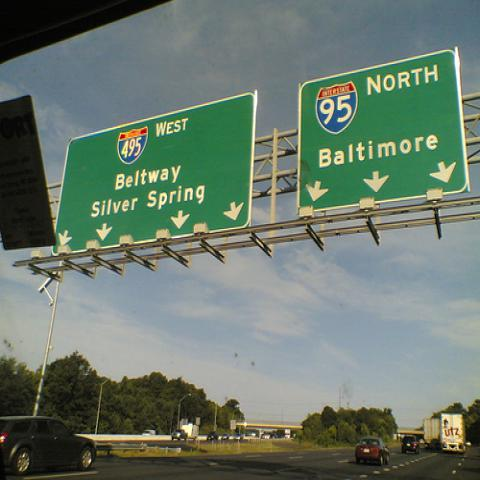car: (0, 416, 97, 477), (355, 438, 390, 466), (402, 436, 420, 454), (206, 431, 218, 441), (234, 433, 243, 441), (222, 434, 229, 440), (466, 441, 471, 447), (218, 436, 221, 440)
truck: (440, 413, 466, 454), (424, 419, 441, 450), (171, 430, 190, 441), (144, 430, 156, 435)
